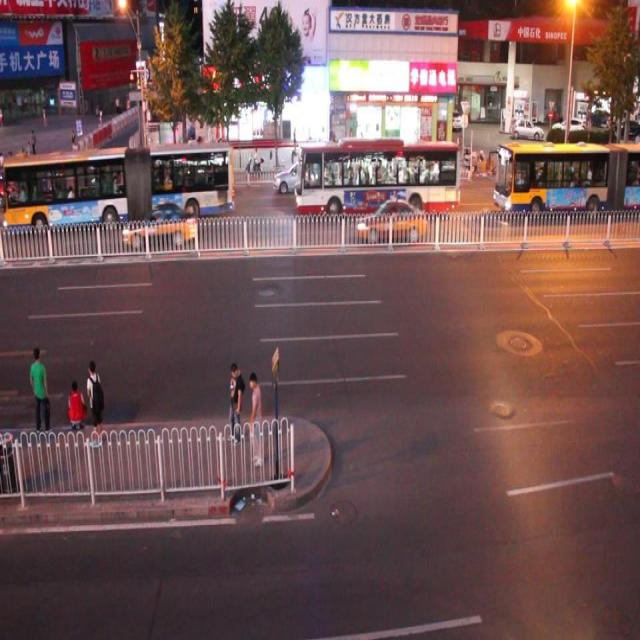car: (356, 197, 425, 240), (124, 207, 196, 248), (56, 184, 112, 223), (186, 158, 232, 204), (270, 163, 320, 196), (18, 176, 64, 208), (1, 174, 17, 206)
van: (1, 146, 233, 223), (293, 139, 460, 211), (492, 140, 640, 219)
